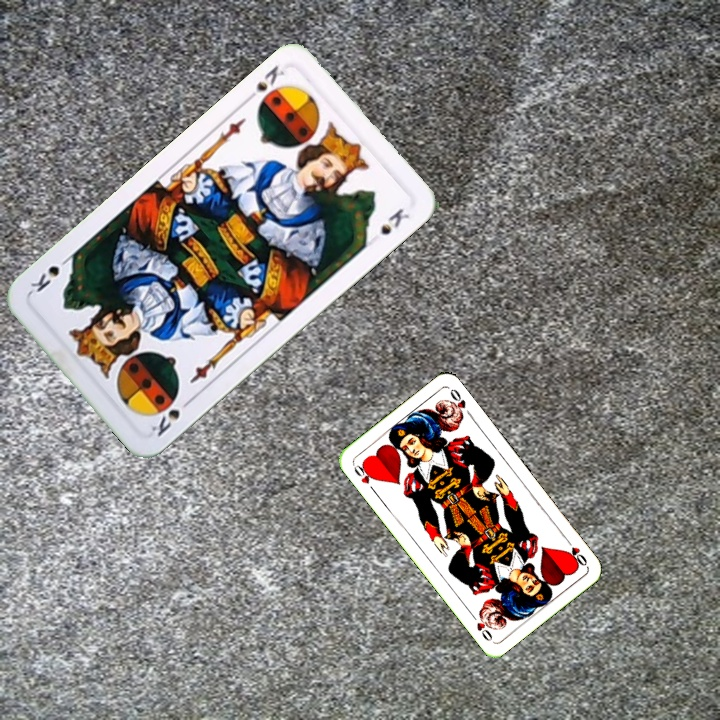HO: (349, 459, 378, 495), (561, 534, 590, 568)
SK: (147, 394, 196, 440), (241, 61, 288, 105)
